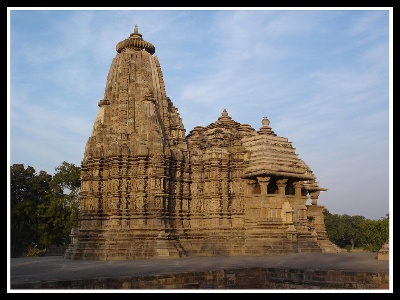amalaka: (110, 33, 161, 56)
gopuram: (93, 51, 183, 152)
mandapa: (242, 160, 327, 213)
